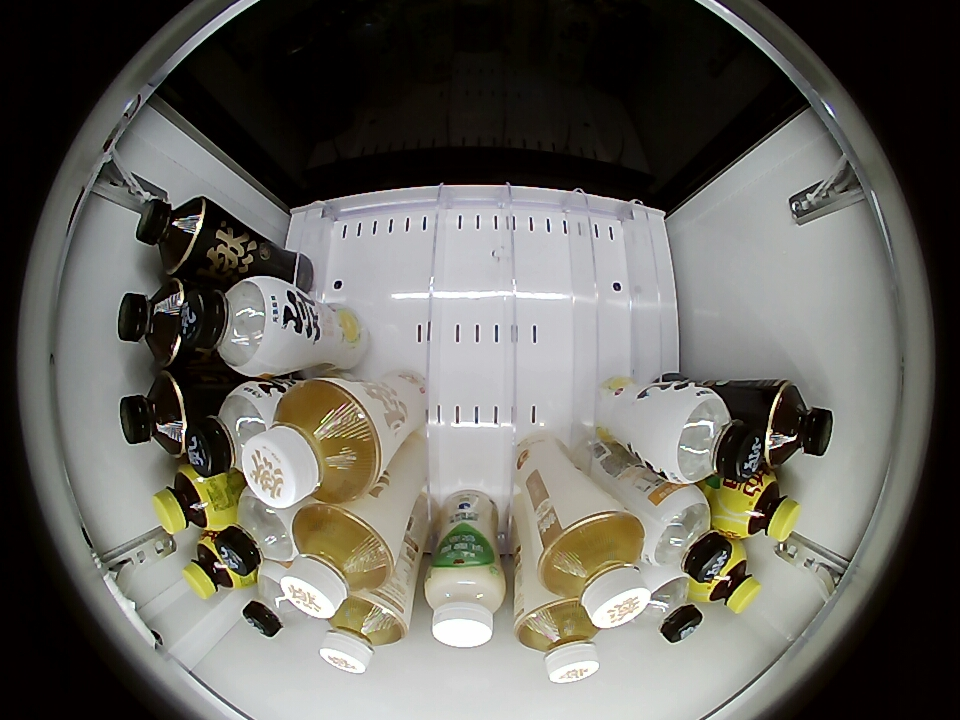rancha-1: (117, 278, 189, 366), (761, 382, 834, 468), (119, 371, 189, 456), (135, 195, 208, 274)
rancha-2: (242, 378, 383, 508), (531, 509, 650, 629), (281, 505, 395, 619), (515, 597, 602, 684), (321, 593, 408, 675)
weitaningmeng-bottle: (723, 472, 802, 543), (153, 464, 228, 534), (697, 547, 762, 614), (183, 534, 247, 600)
yousuanru: (424, 559, 506, 648)
yuanqishui: (650, 385, 764, 484), (179, 276, 290, 377), (637, 484, 732, 582), (186, 382, 282, 476), (215, 491, 300, 575), (629, 569, 703, 643), (244, 561, 308, 637)
